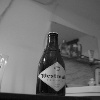beer: (37, 30, 72, 100)
